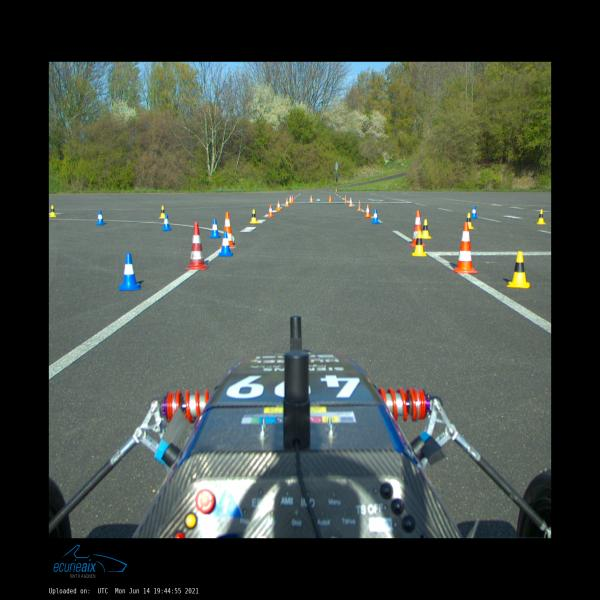blue_cone: (119, 253, 141, 291), (218, 232, 233, 256), (208, 219, 222, 238), (162, 214, 172, 231), (96, 210, 105, 226), (371, 210, 380, 224), (471, 206, 477, 218)
large_orange_cone: (452, 222, 478, 274), (185, 222, 209, 269), (409, 210, 426, 247), (220, 212, 236, 248)
orange_cone: (267, 205, 274, 217), (365, 205, 371, 217), (357, 200, 362, 211), (276, 201, 281, 211), (349, 197, 353, 207), (285, 198, 289, 206), (310, 195, 314, 202), (328, 195, 332, 202), (289, 195, 292, 203), (344, 195, 347, 203), (292, 196, 294, 202)
yellow_cone: (507, 252, 530, 288), (411, 231, 427, 256), (422, 219, 433, 239), (536, 209, 546, 224), (250, 209, 258, 223), (467, 213, 474, 229), (49, 205, 57, 217), (160, 206, 164, 218)
